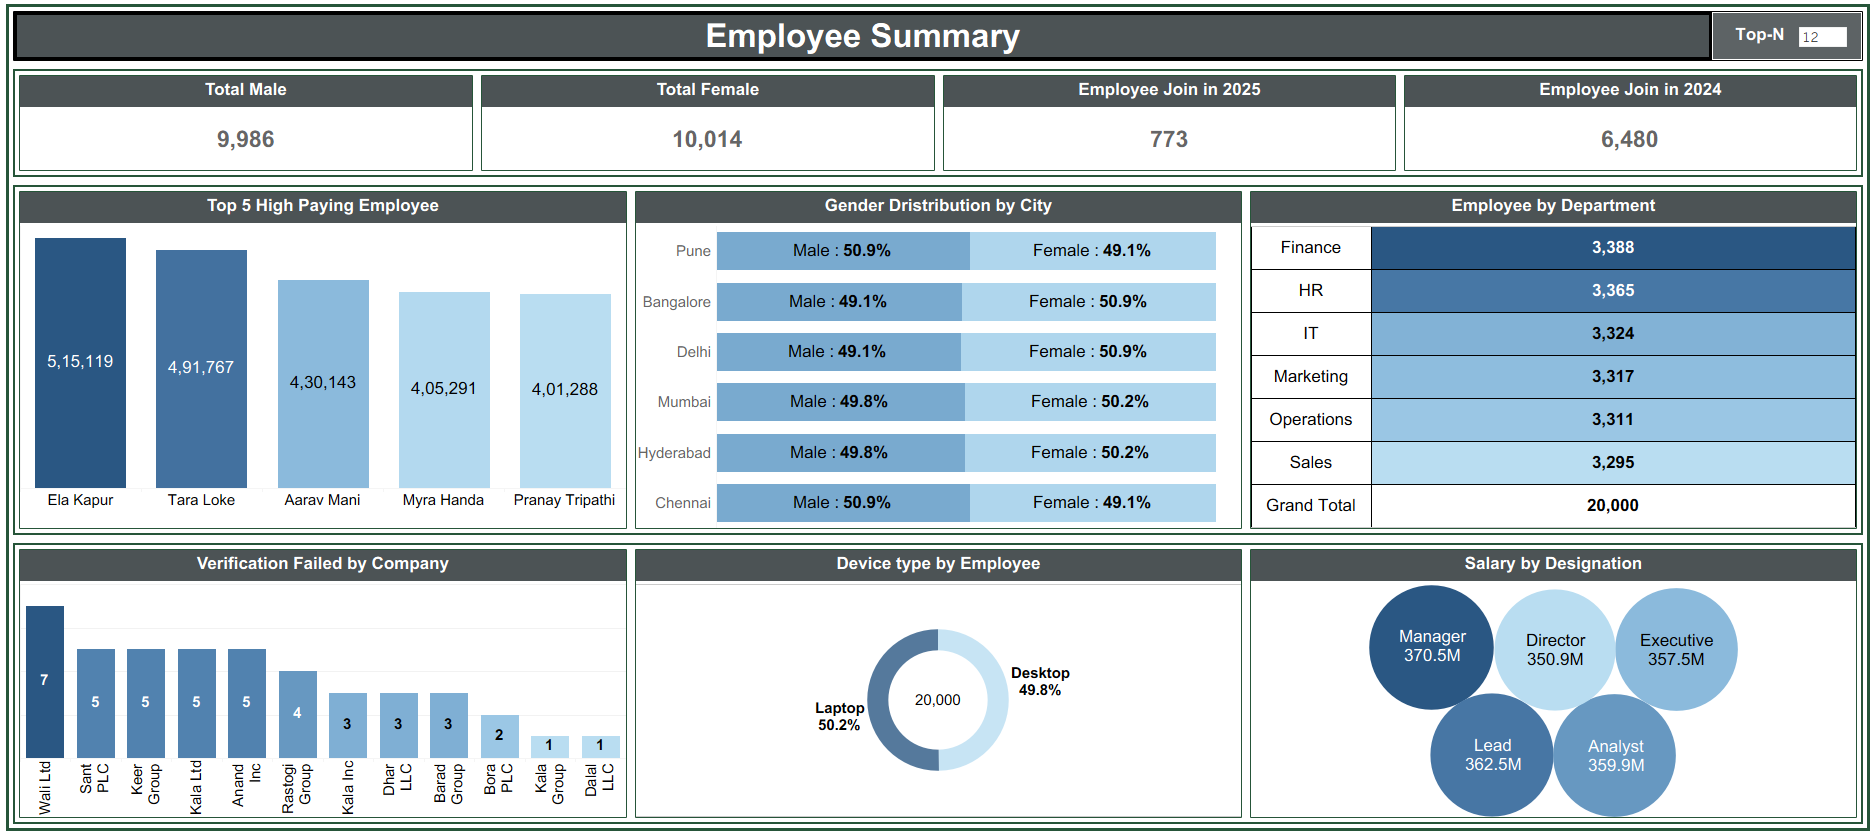

The dashboard page shown, as its layout file describes it:
{"tool":"tableau","page":{"name":"Summary","canvas":[1000,1000],"units":"permille","ordinal":0},"visuals":[{"type":"text","box":[12,23.5,956.9,56.4]},{"type":"parameter","param":"[Parameters].[Parameter 0541289548808195]","box":[968.8,23.5,19.2,56.4]},{"type":"worksheet","title":"Total Male","mark":"Automatic","box":[12.6,92.8,243.9,122.2]},{"type":"worksheet","title":"Total Female","mark":"Automatic","box":[256.4,92.8,243.9,122.2]},{"type":"worksheet","title":"Employee Join in 2025","mark":"Automatic","box":[500.3,92.8,243.9,122.2]},{"type":"worksheet","title":"Employee Join in 2024","mark":"Automatic","box":[744.2,92.8,243.3,122.2]},{"type":"worksheet","title":"Top 5 High Paying Employee","mark":"Automatic","rows":["Salary"],"cols":["Employee Name"],"box":[12.6,229.1,325.4,406.6]},{"type":"worksheet","title":"Gender Dristribution by City","mark":"Automatic","rows":["Office Location"],"cols":["Employee_ID"],"box":[337.9,229.1,324.7,406.6]},{"type":"worksheet","title":"Employee by Department","mark":"Square","rows":["Department"],"box":[662.7,229.1,324.8,406.6]},{"type":"worksheet","title":"Verification Failed by Company","mark":"Automatic","rows":["Employee_ID (Background Verification)"],"cols":["Previous Company"],"box":[12.6,649.8,325.4,325.5]},{"type":"worksheet","title":"Device type by Employee","mark":"Pie","rows":["Calculation_0541289557544966","Calculation_0541289557544966"],"box":[337.9,649.8,324.7,325.5]},{"type":"worksheet","title":"Salary by Designation","mark":"Circle","box":[662.7,649.8,324.8,325.5]}]}

Visuals, with their boxes on the dashboard's canvas, which has no fixed pixel size, in thousandths of its width and height (x1, y1, x2, y2). These are canvas units, not pixel positions in the 1876x836 screenshot, which may show the page scaled, cropped or inside an application window:
text: bbox(12, 24, 969, 80)
parameter: bbox(969, 24, 988, 80)
"Total Male" worksheet: bbox(13, 93, 256, 215)
"Total Female" worksheet: bbox(256, 93, 500, 215)
"Employee Join in 2025" worksheet: bbox(500, 93, 744, 215)
"Employee Join in 2024" worksheet: bbox(744, 93, 988, 215)
"Top 5 High Paying Employee" worksheet: bbox(13, 229, 338, 636)
"Gender Dristribution by City" worksheet: bbox(338, 229, 663, 636)
"Employee by Department" worksheet (Square marks): bbox(663, 229, 988, 636)
"Verification Failed by Company" worksheet: bbox(13, 650, 338, 975)
"Device type by Employee" worksheet (Pie marks): bbox(338, 650, 663, 975)
"Salary by Designation" worksheet (Circle marks): bbox(663, 650, 988, 975)
